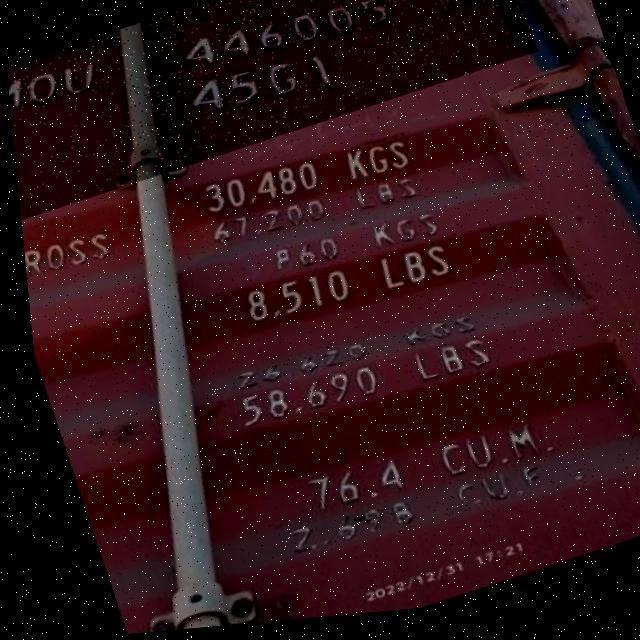container_number_h: (0, 0, 545, 226)
